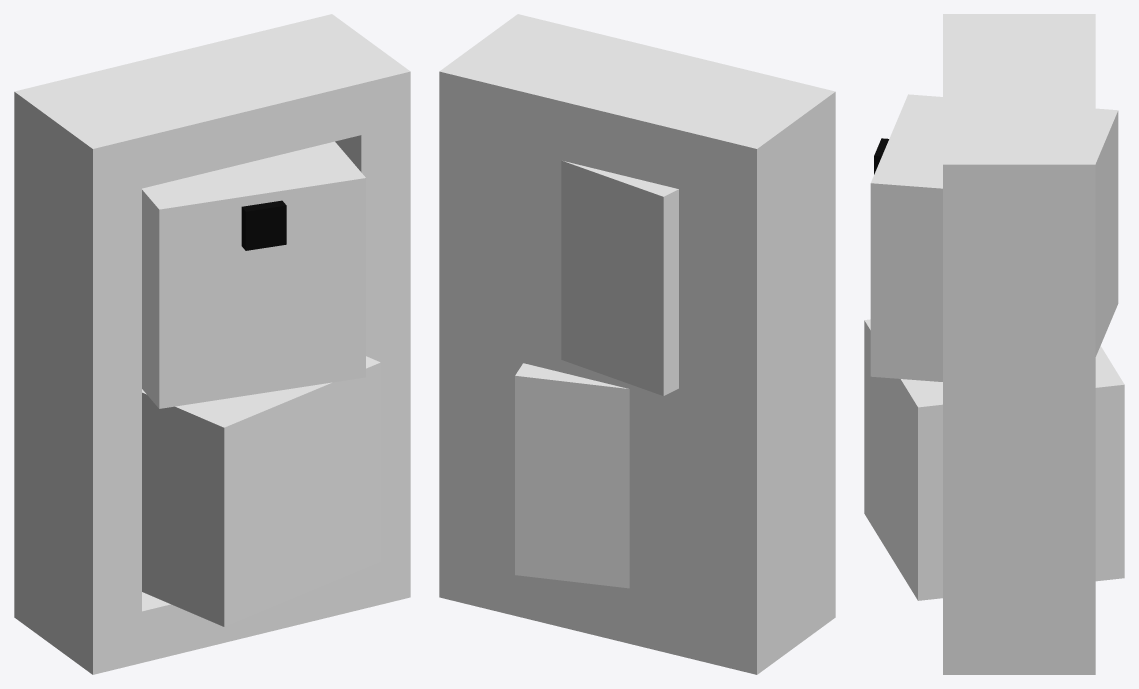
File: switch_a.fbx
3 views of the same model, side by side, from view 1: azimuth 30°, elevation 25°; view 2: azimuth 150°, elevation 25°; view 3: azimuth 270°, elevation 25° (orthographic). The views are drawn at different scales.
Parts seen in each view (by area): view 1: switch_a; view 2: switch_a; view 3: switch_a.
Part boxes in pixels (x1,y1,x2,y2): switch_a: (14, 14, 410, 674); switch_a: (439, 14, 835, 674); switch_a: (864, 14, 1124, 674).
Size of the model in its own units: 0.126 by 0.1992 by 0.0921.
